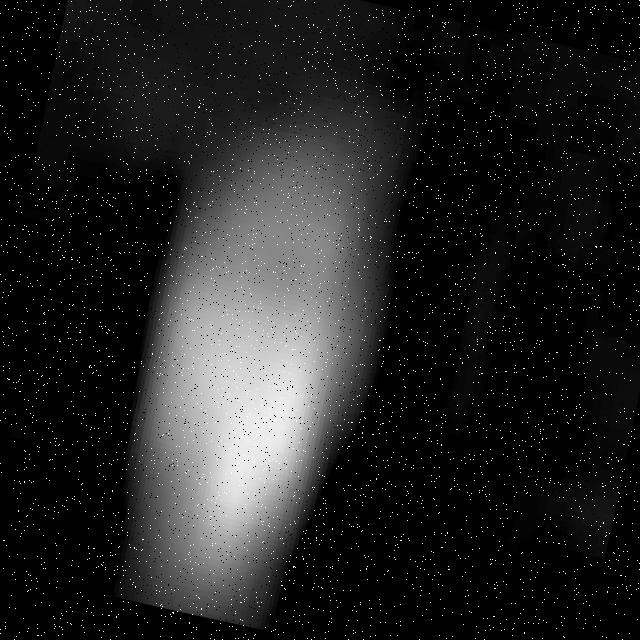person: (50, 114, 412, 640)
